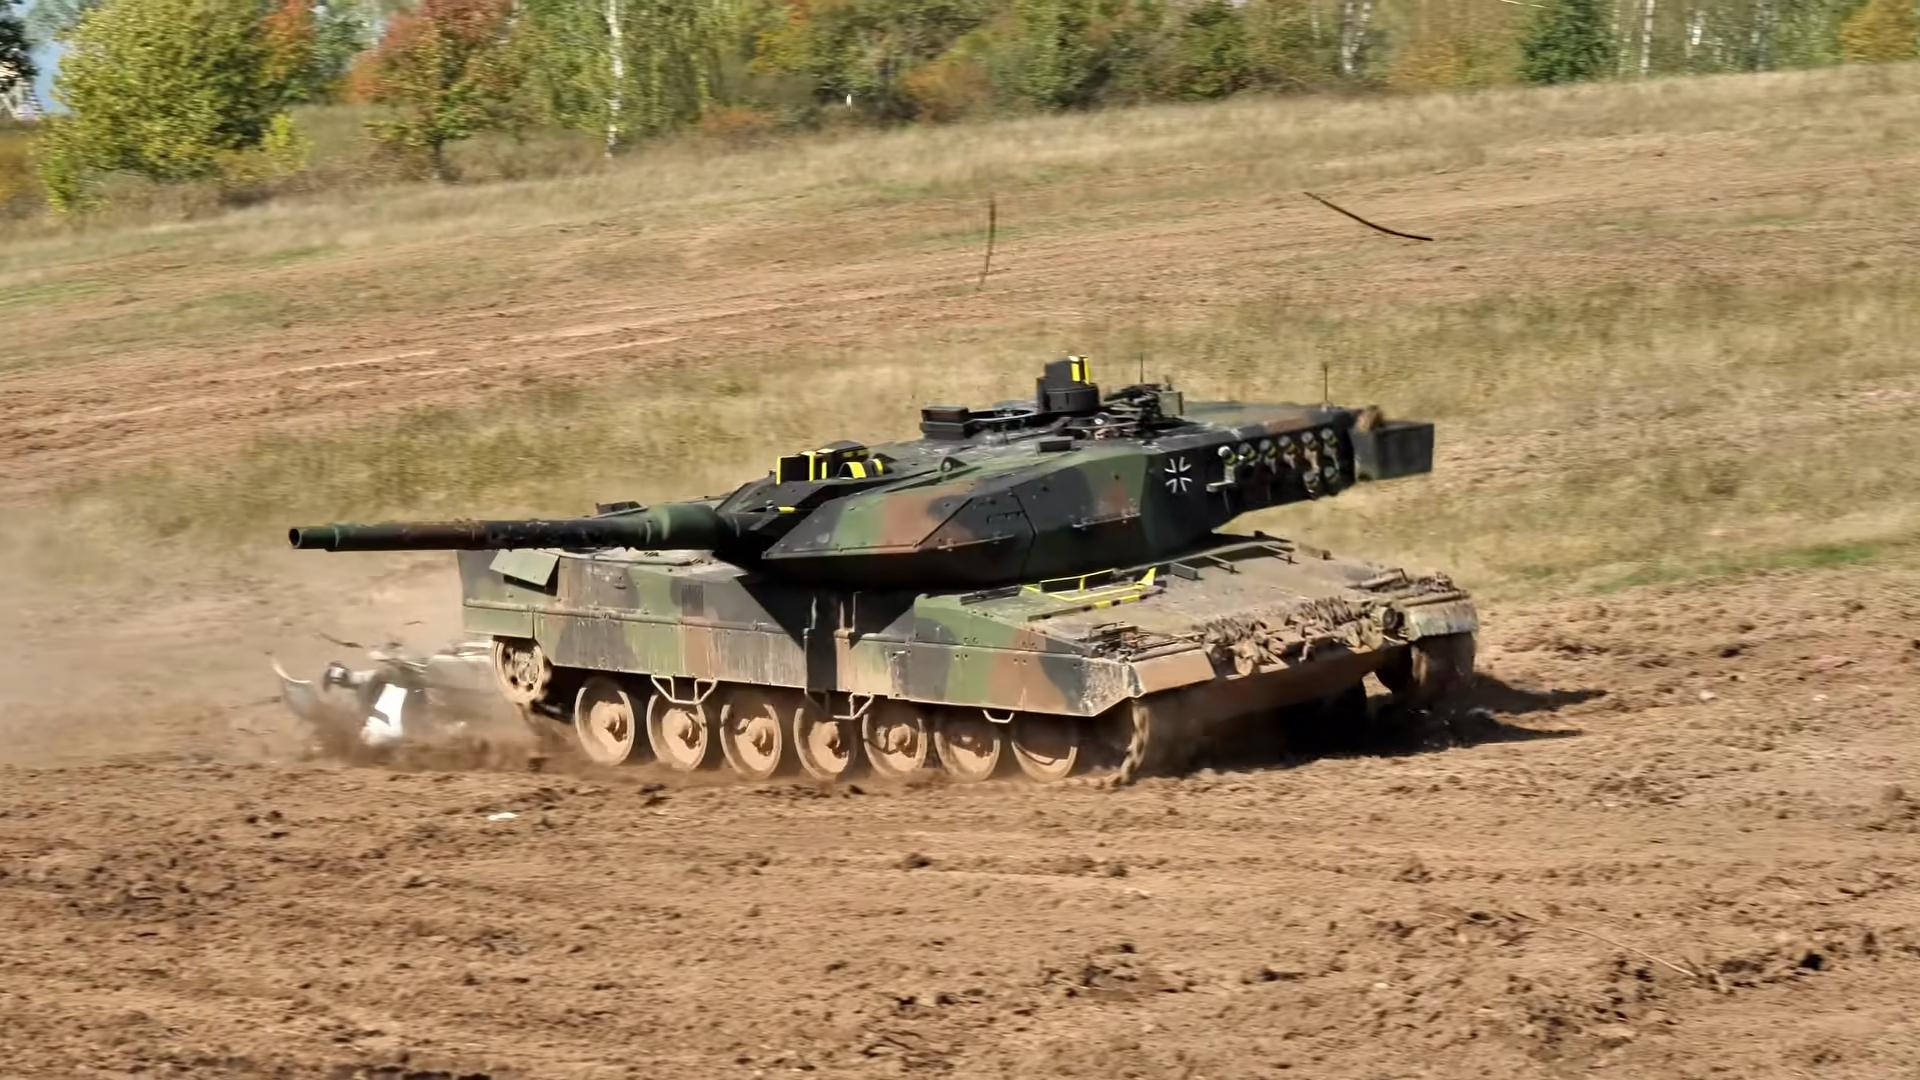tank: (286, 352, 1482, 786)
